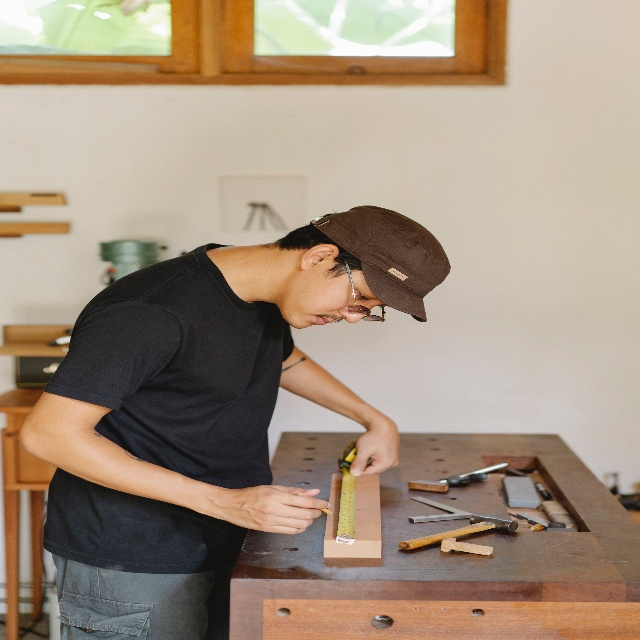Gafas: (343, 258, 386, 324)
Sin_guantes: (229, 483, 330, 535), (349, 421, 400, 476)
